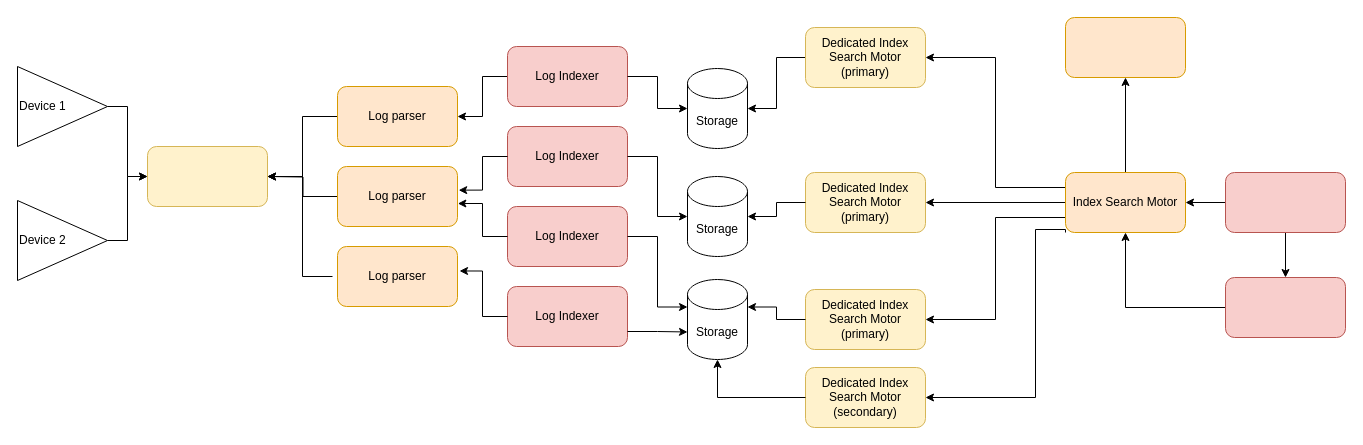
This 1363x445 diagram has some shape labels left out. The centre of each missing label's shape, as x and y in pixels:
"Log Collector" belongs at point 207,176.
"SOAR" belongs at point 1285,307.
"User Authenticator" belongs at point 1125,47.
"User Interface" belongs at point 1285,202.
